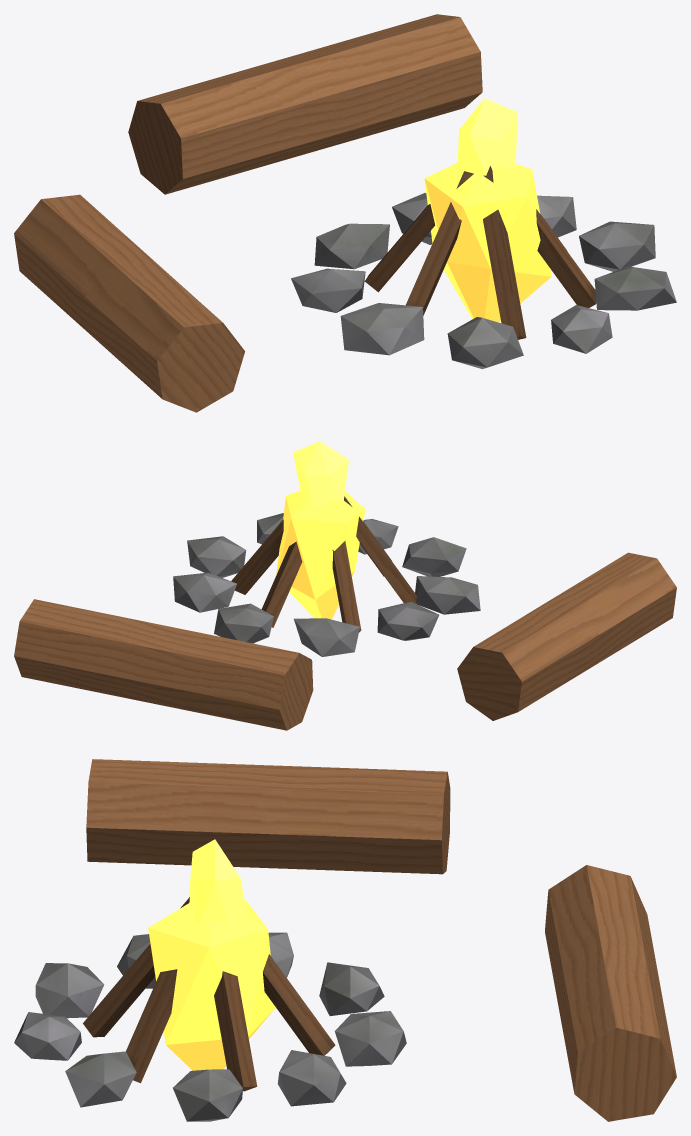
File: lagereld_tex.glb
3 renders of one model, top to bottom at view 1: azimuth 30°, elevation 25°; view 2: azimuth 150°, elevation 25°; view 3: azimuth 270°, elevation 25°, orthographic. The views are drawn at different scales.
Visible parts, largest first — view 1: lagereld; view 2: lagereld; view 3: lagereld.
Part boxes in pixels (x1,y1,x2,y2): lagereld: (14, 14, 676, 412); lagereld: (14, 441, 676, 730); lagereld: (14, 759, 676, 1121).
Size of the model in its own units: 2.28 by 0.9305 by 2.24.
Materials: 5 (3 with a texture image).
